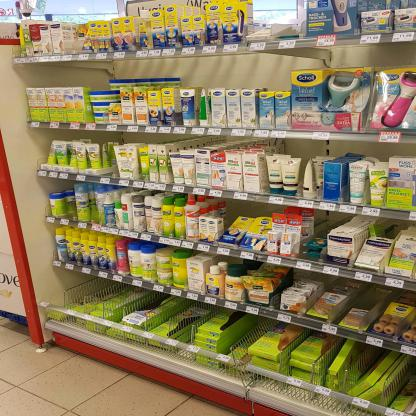Void: (195, 58, 290, 92), (258, 2, 302, 35), (100, 146, 118, 180)
